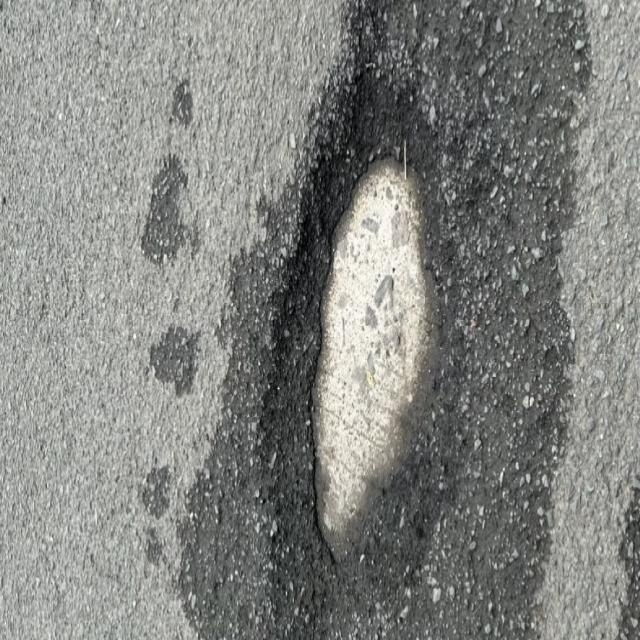pothole: (200, 34, 540, 598)
